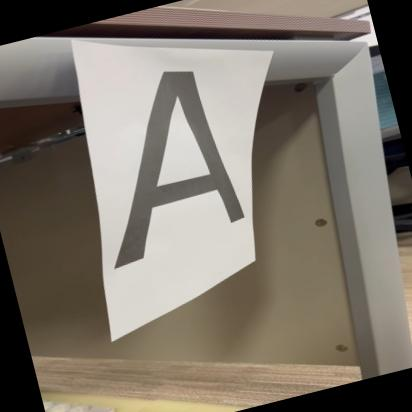seat: (68, 46, 261, 278)
